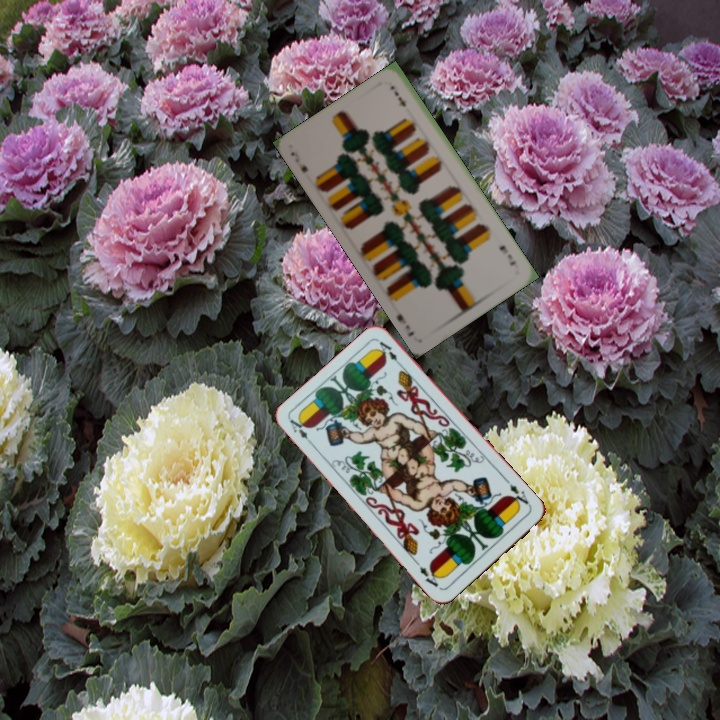E7: (286, 147, 310, 175), (495, 241, 518, 268)
EA: (502, 476, 533, 511), (286, 414, 317, 449)
